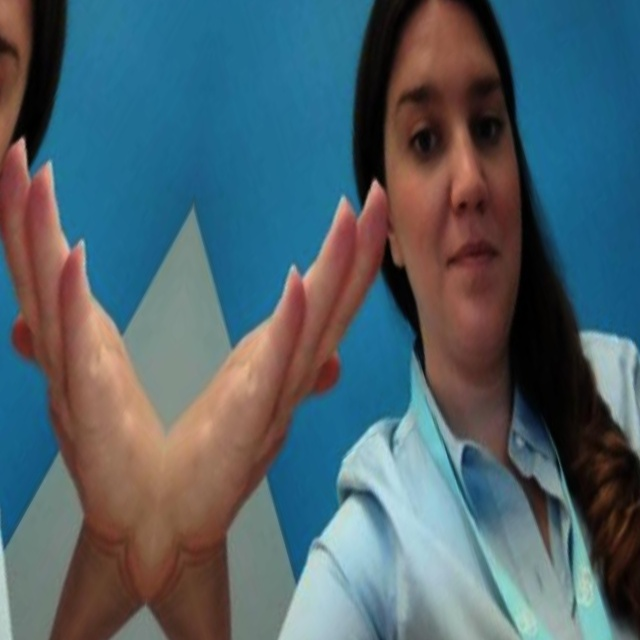Paper: (0, 106, 201, 570)
